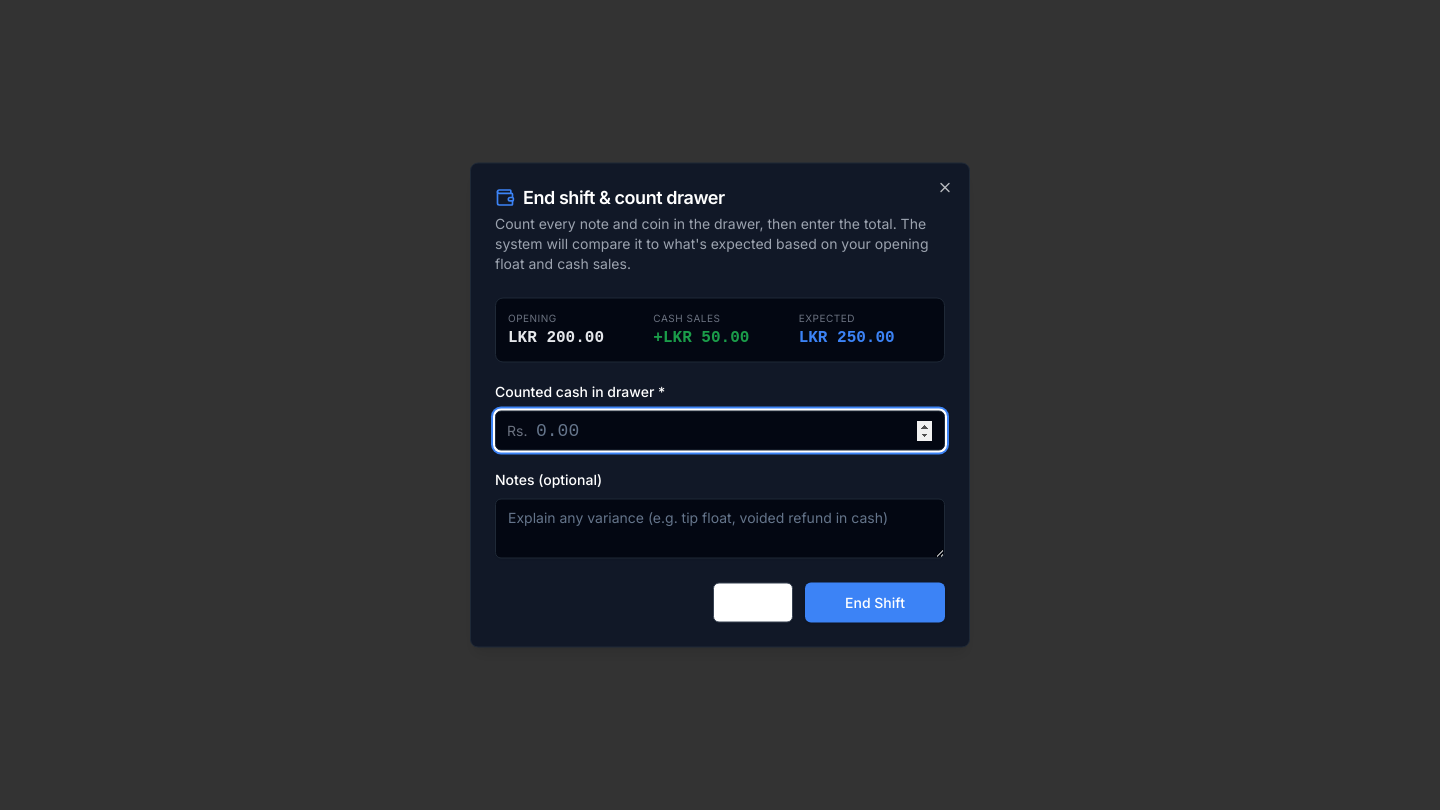
Test: EndShiftModal › shows live 'balances exactly' when counted matches expected
This screenshot has width=1440, height=810.
Type "250" into the number field labelled "Counted cash in drawer *".
click(720, 430); type("250")  # box [495,410,945,450]
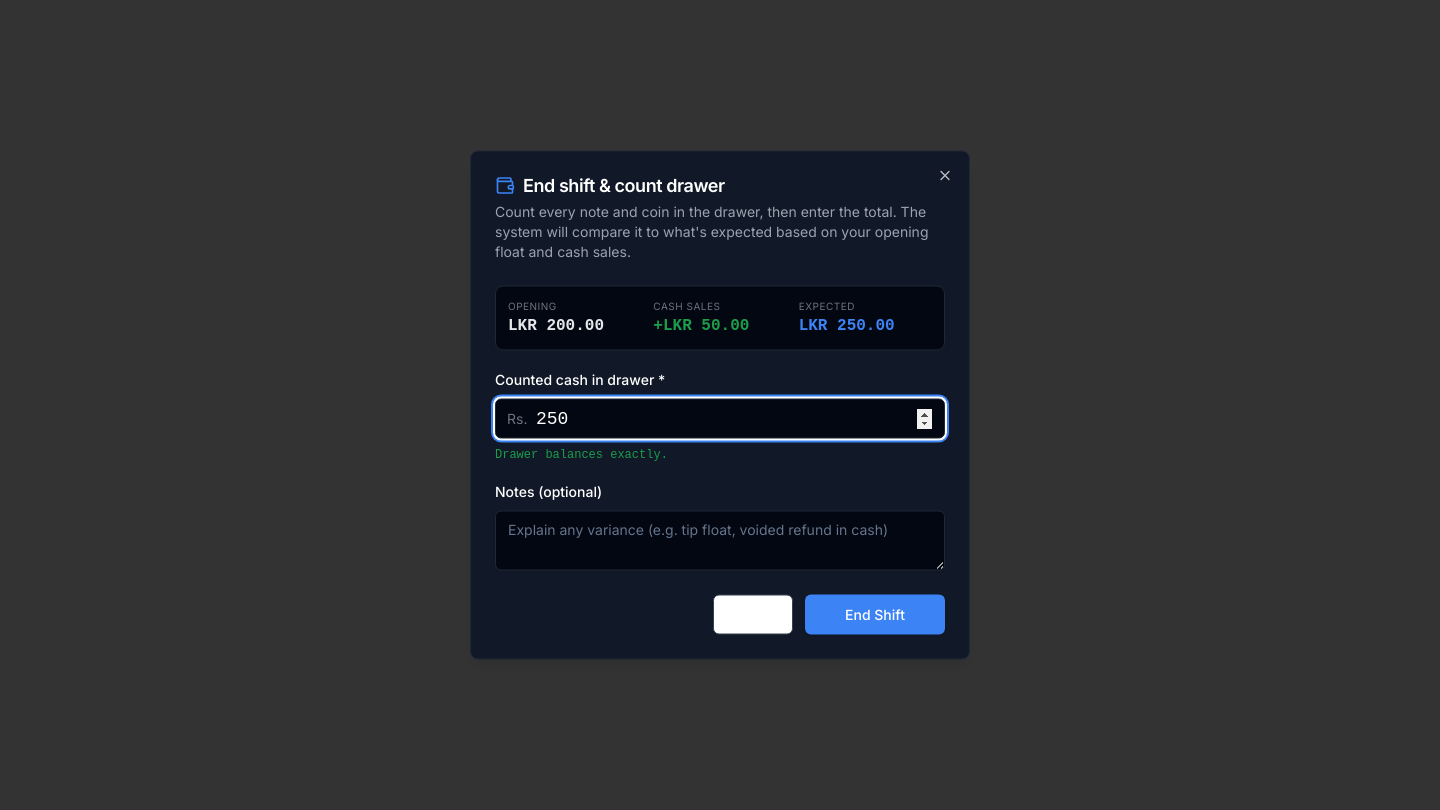
expect the text "Drawer balances exactly." is shown: met, box [495,448,668,462]
